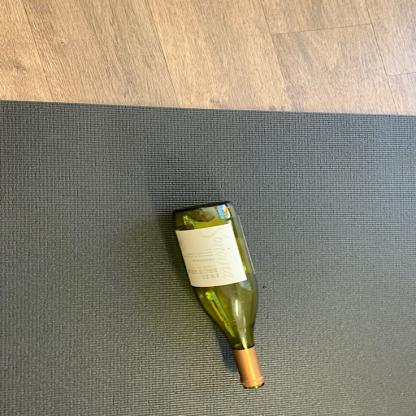trash: (164, 197, 270, 393)
